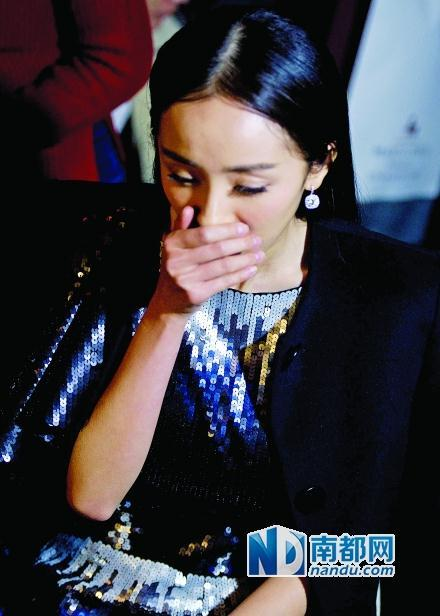face: (158, 95, 298, 280)
